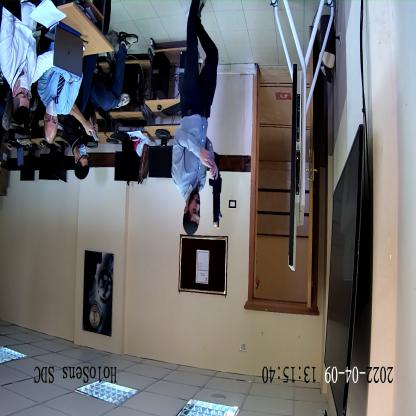handgun: (210, 150, 224, 222)
